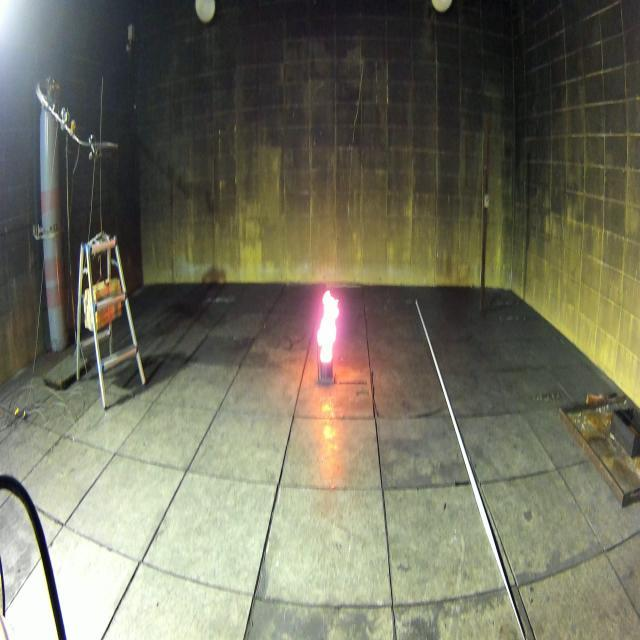Fire: (316, 291, 340, 364)
